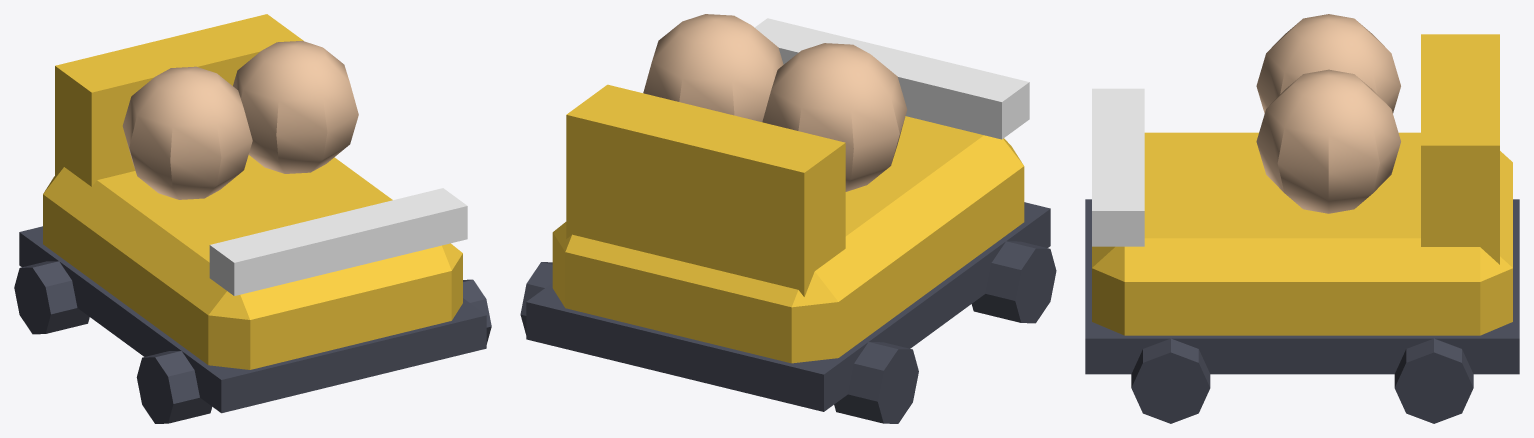
File: roller-coaster.car-0.glb
3 renders of one model, left to right at view 1: azimuth 30°, elevation 25°; view 2: azimuth 150°, elevation 25°; view 3: azimuth 270°, elevation 25°, orthographic. The views are drawn at different scales.
Visible parts, largest first — view 1: model; view 2: model; view 3: model.
Part boxes in pixels (x1,y1,x2,y2): model: (14,14,491,423); model: (520,14,1056,423); model: (1085,14,1519,423).
Bounding box in the file's own units: 0.3 × 0.245 × 0.33.
Materials: 1 (1 with a texture image).
